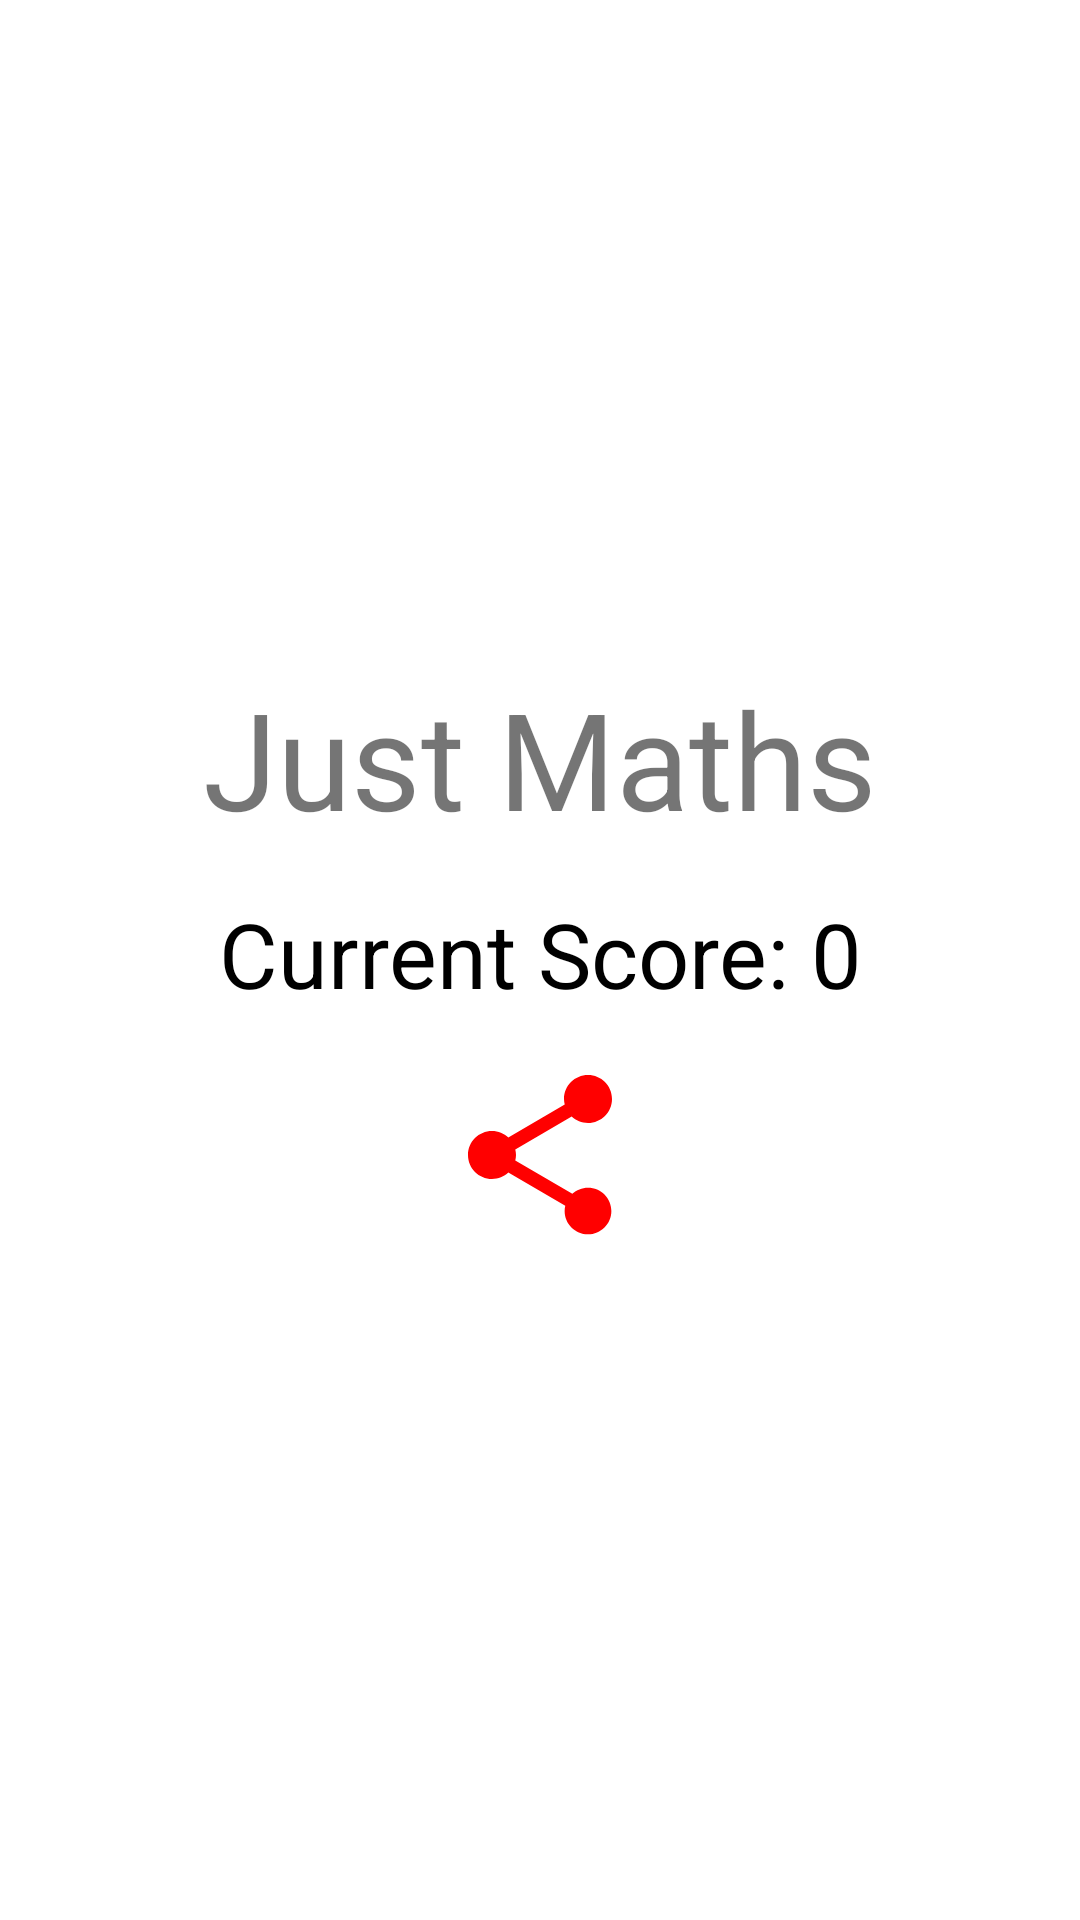

Named icons in this screenshot (1080px×1920px) and their centers, point (x, y):
share: point (540, 1155)
